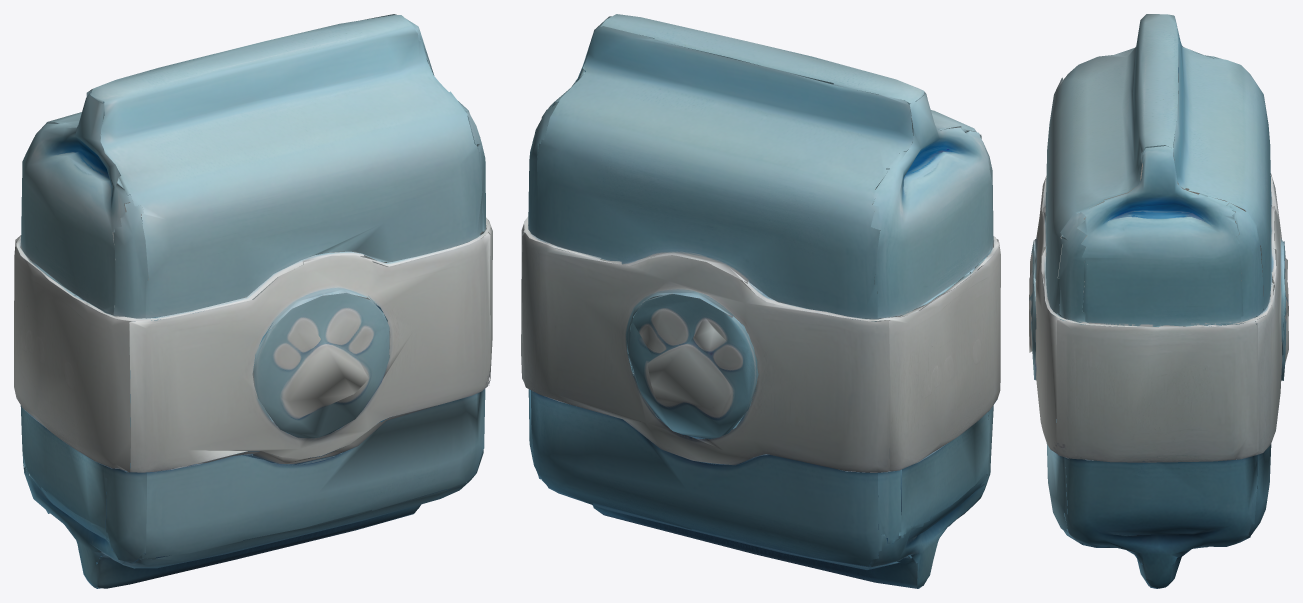
Rendered from P_PeePad_h25.fbx.
The picture shows the model from 3 angles, left to right: view 1: azimuth 30°, elevation 25°; view 2: azimuth 150°, elevation 25°; view 3: azimuth 270°, elevation 25°; orthographic projection. The views are drawn at different scales.
Visible parts, largest first — view 1: P_PeePad; view 2: P_PeePad; view 3: P_PeePad.
Boxes of the visible parts, left/top/right/bottom form: P_PeePad: left=14, top=14, right=492, bottom=588; P_PeePad: left=521, top=14, right=1000, bottom=588; P_PeePad: left=1029, top=14, right=1288, bottom=588.
Bounding box in the file's own units: 0.8447 × 1 × 0.5297.
Materials: 1 (1 with a texture image).
